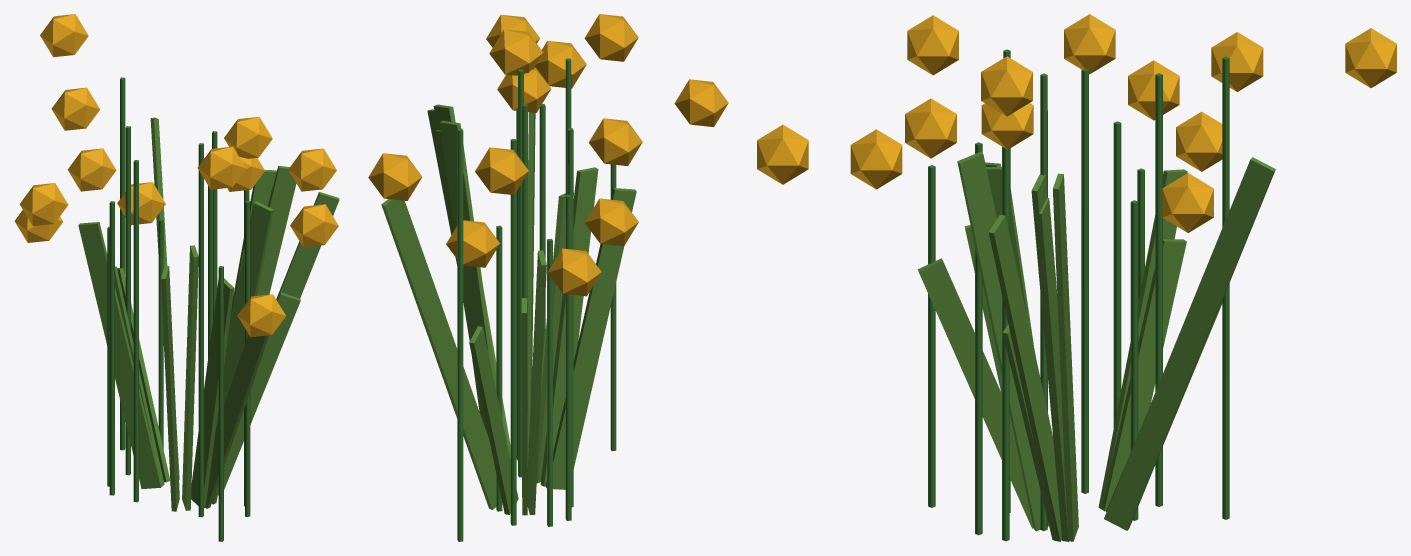
The model's file is daylily.obj.
3 views of the same model, side by side, from view 1: azimuth 30°, elevation 25°; view 2: azimuth 150°, elevation 25°; view 3: azimuth 270°, elevation 25° (orthographic). The views are drawn at different scales.
Parts seen in each view (by area): view 1: daylily_5, daylily_13, daylily_0, daylily_3, daylily_8, daylily_2, daylily_4, daylily_30, daylily_9, daylily_32, daylily_18, daylily_26 (+24 smaller); view 2: daylily_10, daylily_4, daylily_8, daylily_12, daylily_7, daylily_14, daylily_5, daylily_24, daylily_18, daylily_0, daylily_13, daylily_21 (+23 smaller); view 3: daylily_10, daylily_1, daylily_13, daylily_3, daylily_6, daylily_12, daylily_11, daylily_32, daylily_14, daylily_24, daylily_18, daylily_26 (+22 smaller).
Part boxes in pixels (box(x1,y1,x2,y2)): daylily_5: box(78, 222, 162, 488); daylily_13: box(211, 201, 273, 504); daylily_0: box(191, 278, 234, 508); daylily_3: box(205, 334, 269, 508); daylily_8: box(182, 245, 198, 510); daylily_2: box(218, 292, 300, 495); daylily_4: box(161, 265, 179, 511); daylily_30: box(198, 143, 203, 517); daylily_9: box(257, 165, 296, 295); daylily_32: box(133, 160, 138, 502); daylily_18: box(109, 201, 114, 495); daylily_26: box(218, 266, 223, 541); daylily_10: box(381, 199, 496, 509); daylily_4: box(545, 188, 636, 489); daylily_8: box(540, 167, 598, 486); daylily_12: box(439, 120, 496, 437); daylily_7: box(469, 326, 518, 514); daylily_14: box(457, 128, 463, 541); daylily_5: box(527, 250, 546, 514); daylily_24: box(510, 139, 516, 525); daylily_18: box(565, 195, 571, 520); daylily_0: box(536, 192, 573, 483); daylily_13: box(527, 112, 535, 465); daylily_21: box(547, 248, 601, 296); daylily_10: box(1104, 157, 1275, 530); daylily_1: box(988, 214, 1061, 541); daylily_13: box(957, 151, 1048, 531); daylily_3: box(917, 258, 1033, 528); daylily_6: box(1102, 239, 1186, 511); daylily_12: box(1053, 173, 1078, 541); daylily_11: box(1036, 198, 1068, 541); daylily_32: box(1081, 68, 1088, 493); daylily_14: box(1222, 56, 1229, 519); daylily_24: box(1155, 73, 1162, 506); daylily_18: box(1113, 121, 1121, 427); daylily_26: box(928, 165, 935, 507).
Size of the model in its own units: 0.4689 by 0.7101 by 0.841.
